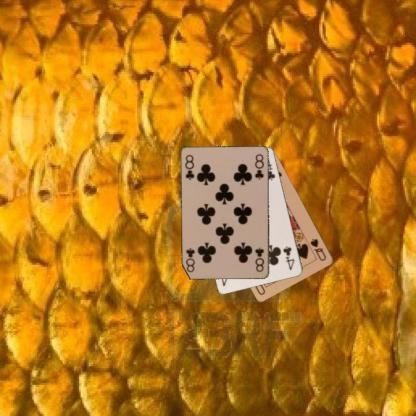4c: (280, 244, 296, 271)
8c: (182, 152, 196, 181), (252, 245, 266, 273)
Qs: (308, 236, 328, 262)
